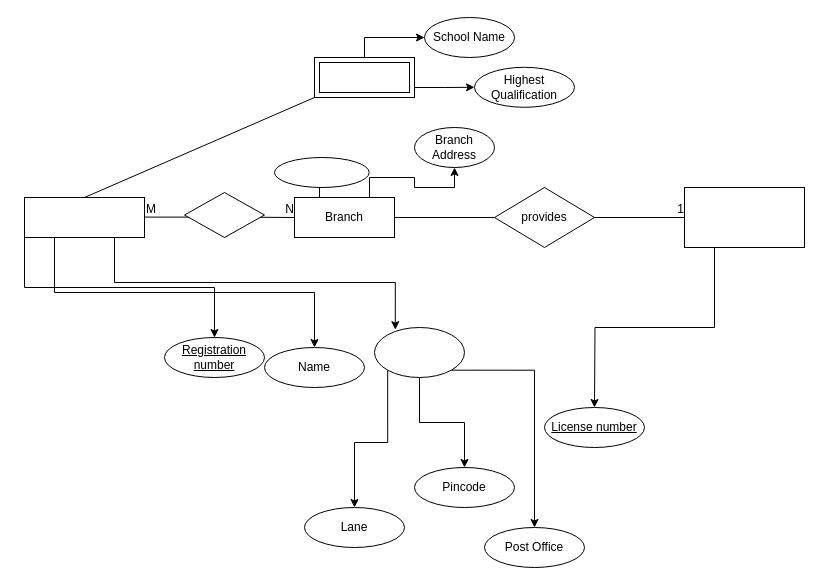
Some shapes in this 822 by 585 pixel diagram are drawn without their labels. The centre of each missing label's shape, as x and y in pixels:
Address: (419,352)
applies: (224,215)
Branch name: (321,172)
driver: (84,217)
Education: (364,77)
license: (744,217)
